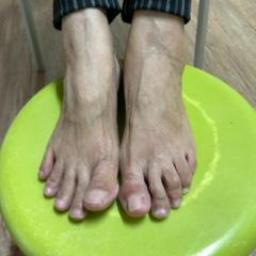Dorsal View -Both Feet-: (20, 27, 232, 239)
